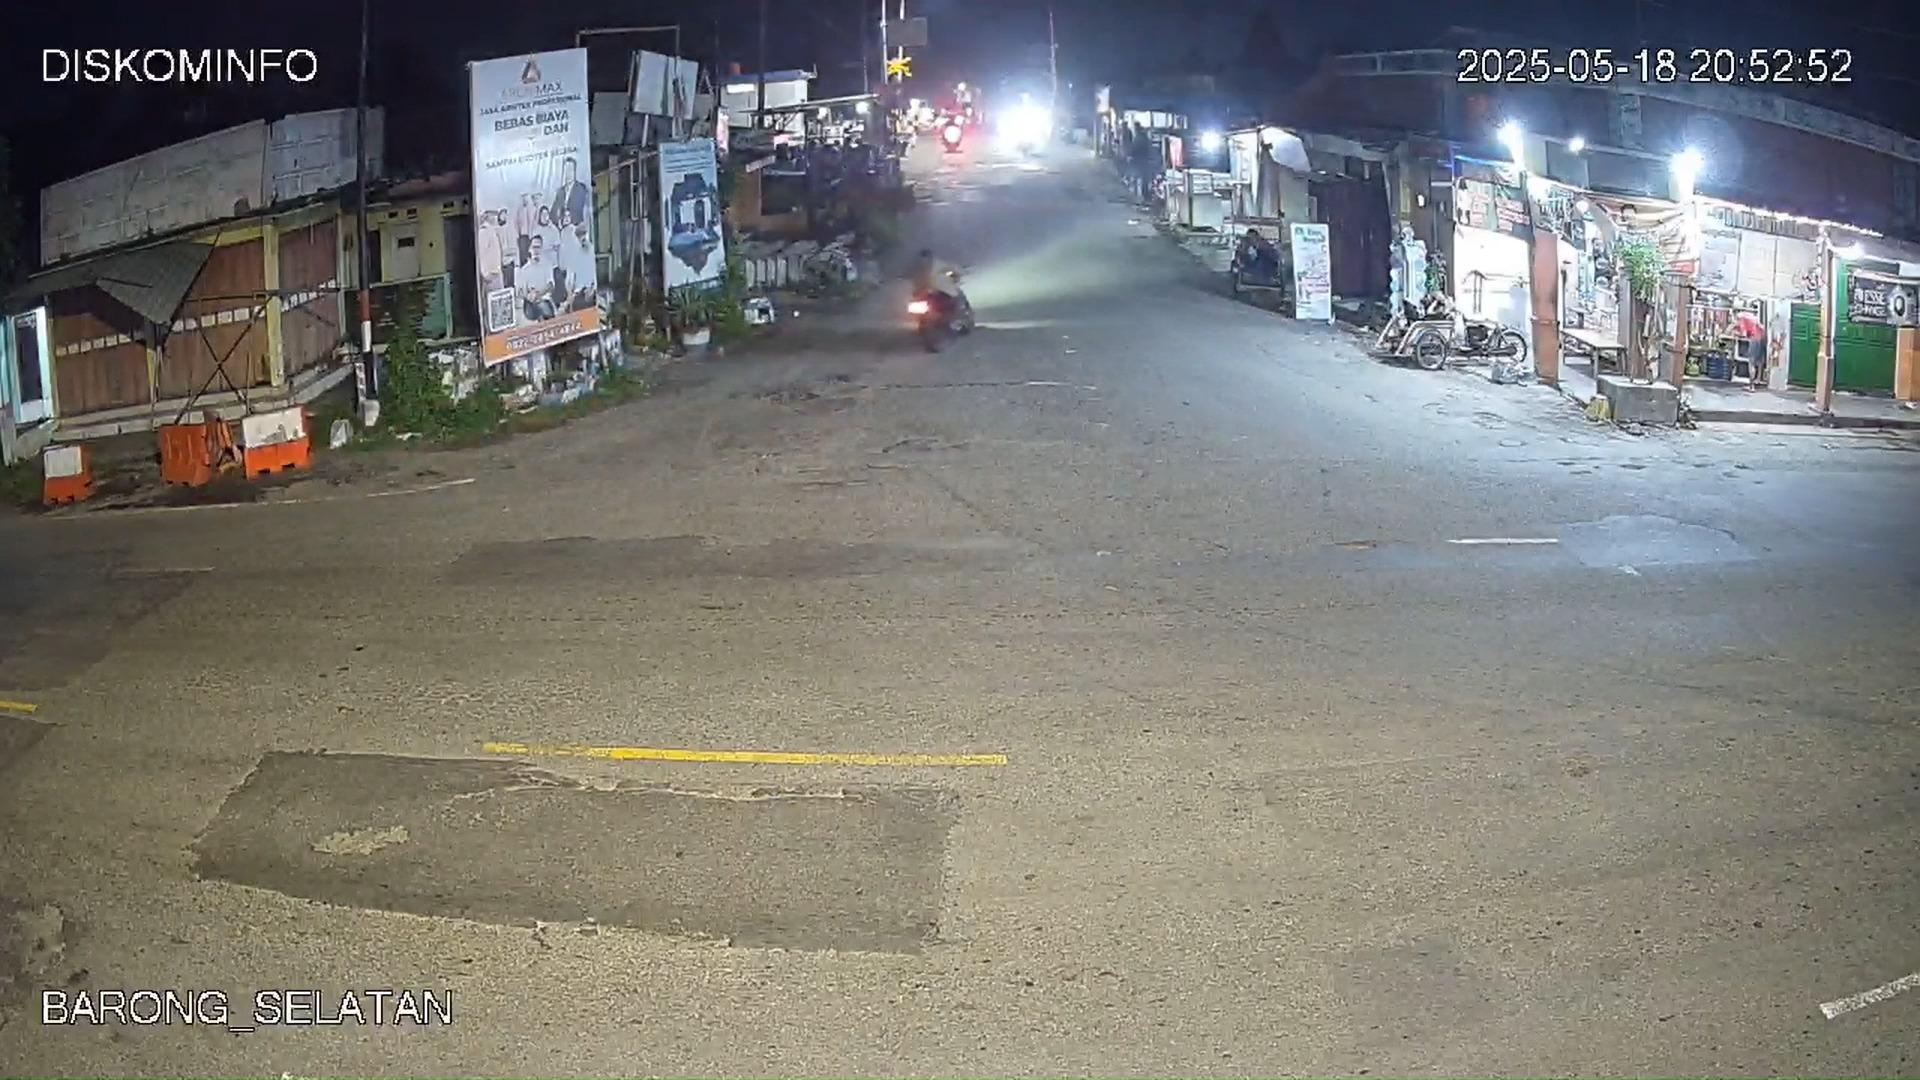Motor: (909, 248, 975, 352)
